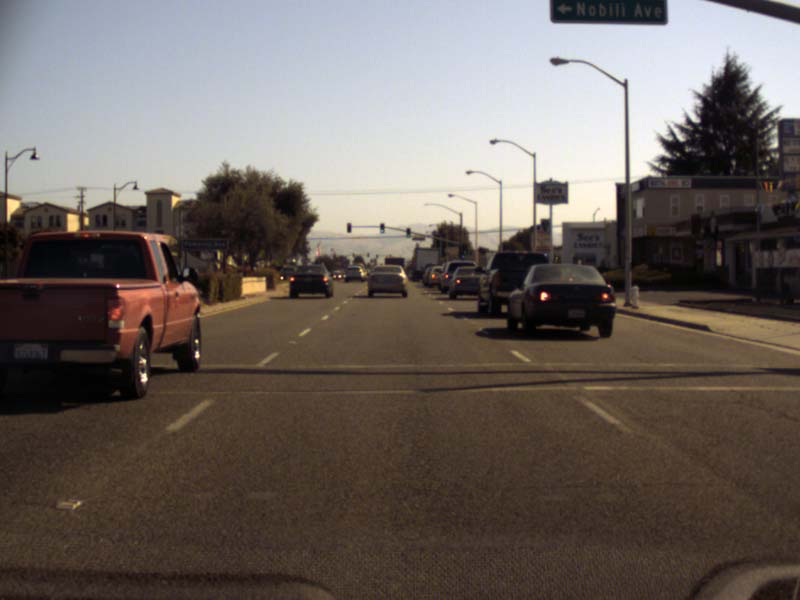Green: (379, 222, 385, 234), (462, 244, 467, 255), (405, 228, 410, 237)
